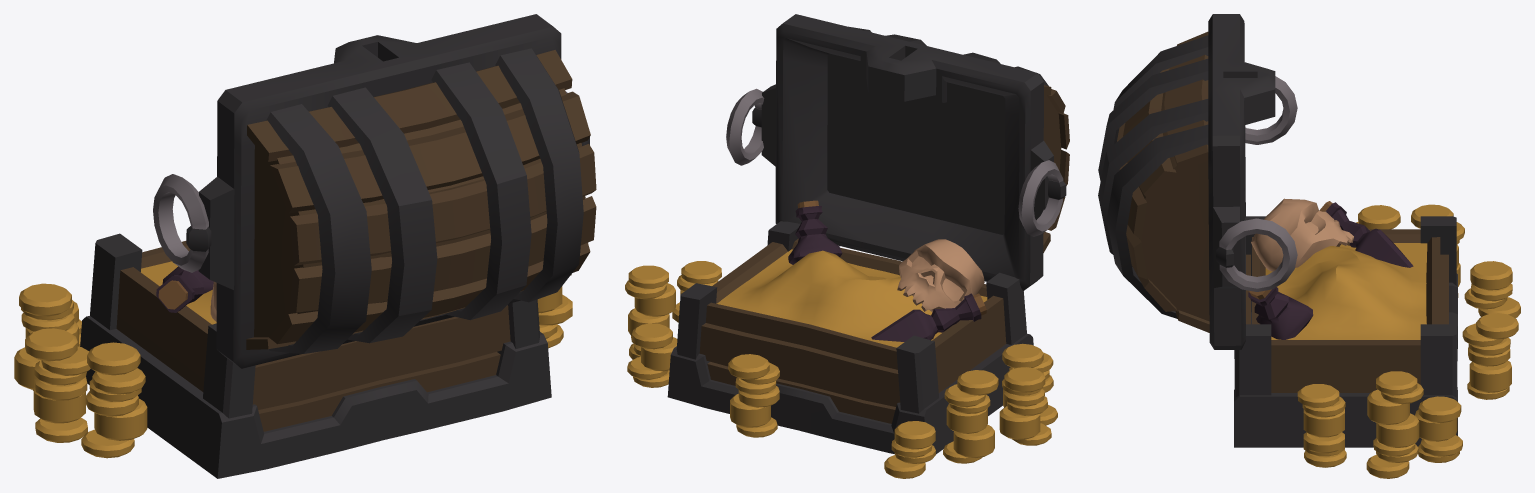
Rendered from chest_gold.fbx.
The picture shows the model from 3 angles, left to right: view 1: azimuth 30°, elevation 25°; view 2: azimuth 150°, elevation 25°; view 3: azimuth 270°, elevation 25°; orthographic projection. The views are drawn at different scales.
Visible parts, largest first — view 1: Prop_Chest_Gold; view 2: Prop_Chest_Gold; view 3: Prop_Chest_Gold.
Boxes of the visible parts, box(x1,y1,x2,y2) form: Prop_Chest_Gold: box(14, 14, 596, 478); Prop_Chest_Gold: box(625, 14, 1069, 478); Prop_Chest_Gold: box(1098, 14, 1520, 478).
Size of the model in its own units: 1.3 by 0.9194 by 1.14.
